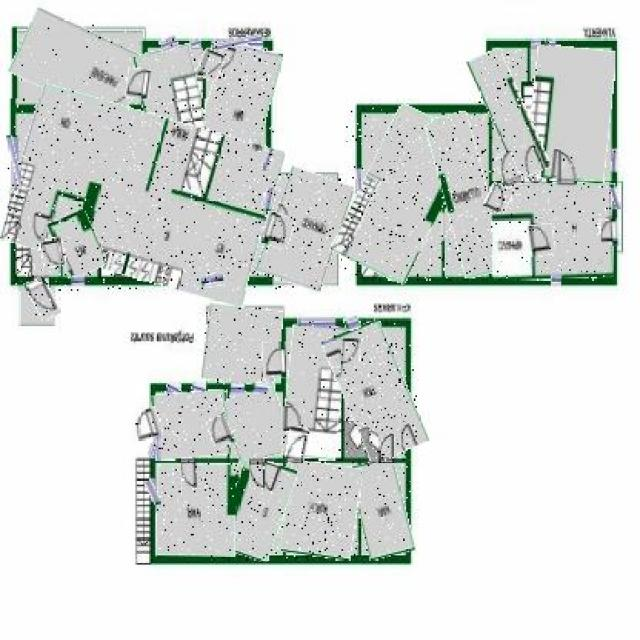door: (29, 277, 57, 318), (263, 212, 294, 248), (132, 408, 162, 443), (528, 225, 555, 257), (498, 150, 520, 188), (263, 342, 286, 378), (209, 415, 234, 448), (286, 428, 308, 463), (199, 50, 223, 82), (486, 183, 512, 212), (124, 70, 150, 98), (557, 152, 577, 186), (42, 239, 66, 266), (180, 458, 197, 496), (378, 434, 397, 464), (600, 219, 620, 246), (249, 457, 265, 489), (280, 406, 300, 431), (342, 339, 360, 366)
window: (210, 37, 262, 49), (9, 135, 20, 191), (297, 317, 335, 326), (228, 381, 246, 397), (203, 274, 225, 286), (148, 478, 158, 504), (160, 37, 177, 52), (264, 188, 274, 212), (266, 148, 276, 170), (611, 183, 618, 209), (252, 383, 268, 394), (192, 380, 206, 392), (344, 317, 358, 329), (168, 382, 182, 392), (148, 437, 155, 455), (612, 150, 617, 172), (544, 37, 556, 46), (72, 275, 85, 283), (550, 276, 562, 284), (357, 168, 361, 189), (531, 40, 540, 49), (189, 40, 200, 46)
zone: (9, 98, 277, 291), (346, 109, 459, 282), (12, 18, 146, 114), (492, 183, 612, 280), (334, 322, 417, 460), (528, 48, 612, 183), (198, 43, 276, 185), (434, 112, 498, 278), (265, 171, 346, 289), (140, 45, 209, 182), (283, 325, 343, 460), (478, 50, 538, 178), (283, 462, 360, 558), (157, 463, 235, 557), (223, 457, 289, 560), (204, 306, 282, 385), (354, 460, 411, 558), (152, 391, 231, 458), (226, 389, 288, 462), (54, 211, 103, 277), (492, 220, 531, 275)
